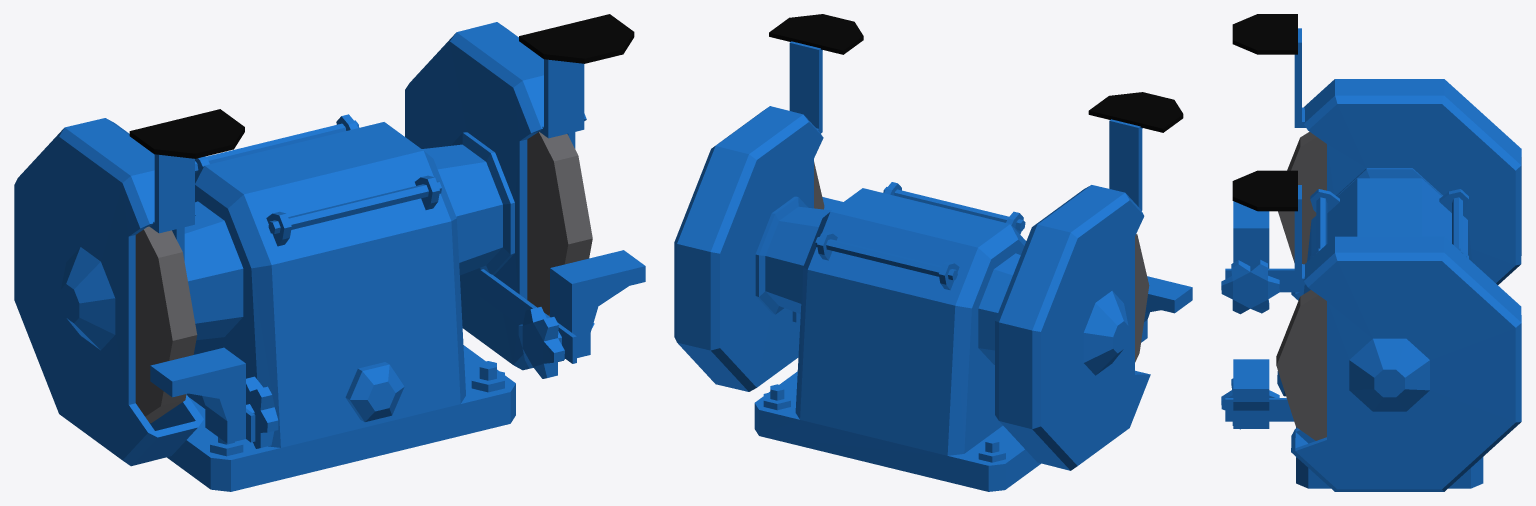
Rendered from space_lathe.fbx.
3 views of the same model, side by side, from view 1: azimuth 30°, elevation 25°; view 2: azimuth 150°, elevation 25°; view 3: azimuth 270°, elevation 25° (orthographic). The views are drawn at different scales.
Parts seen in each view (by area): view 1: Cube_69, Cylinder_70; view 2: Cube_69, Cylinder_70; view 3: Cube_69, Cylinder_70.
Part boxes in pixels (x1,y1,x2,y2): Cube_69: (14,14,645,491); Cylinder_70: (135,132,592,423); Cube_69: (674,14,1192,491); Cylinder_70: (814,162,1149,362); Cube_69: (1221,14,1521,491); Cylinder_70: (1276,132,1326,440).
Bounding box in the file's own units: 44.77 × 33.7 × 28.95.
